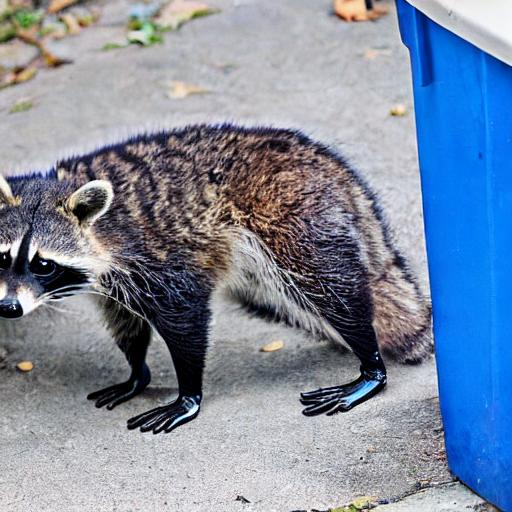raccoon: (0, 117, 435, 382)
